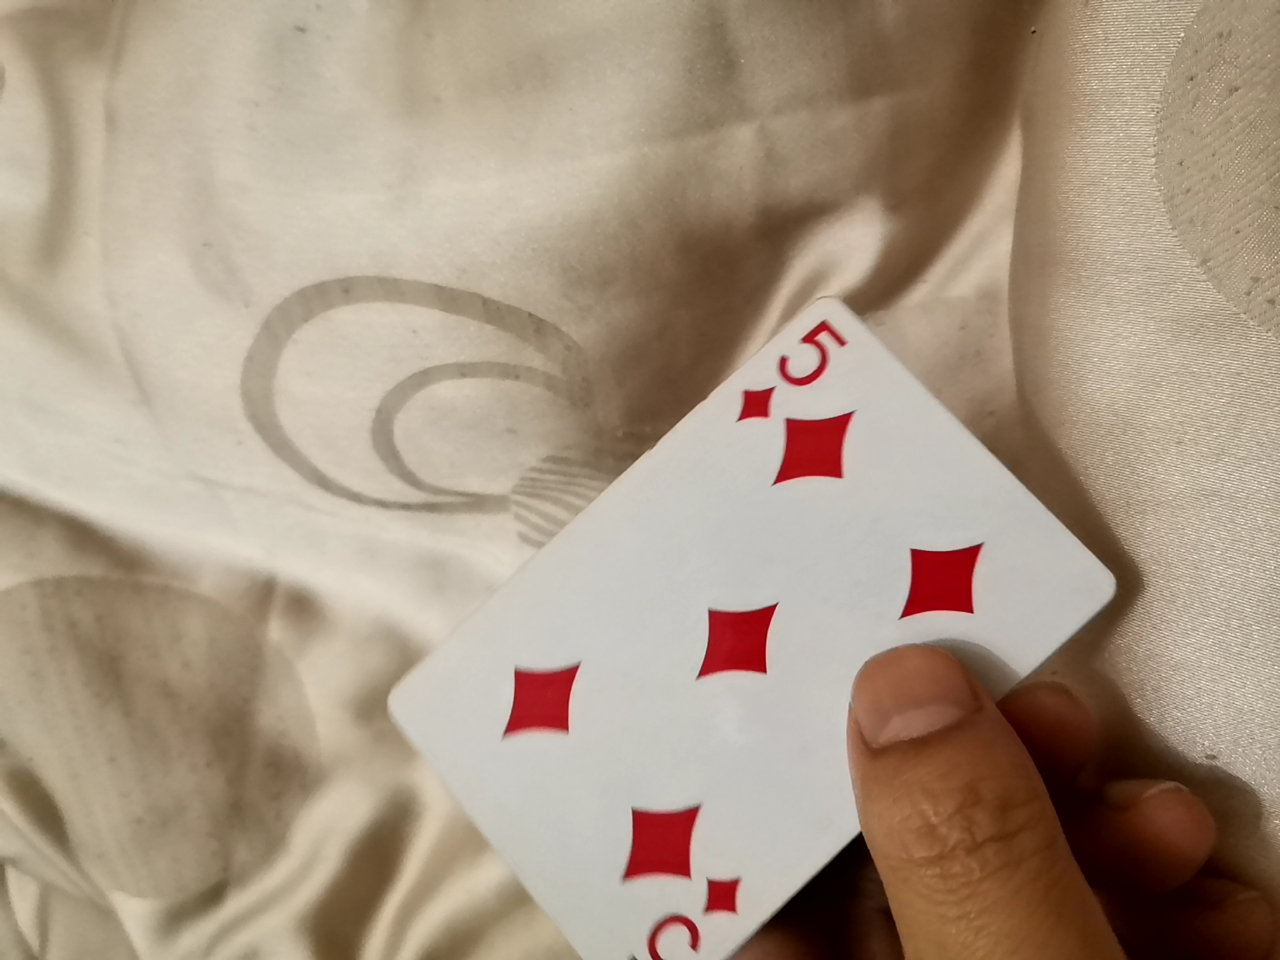fk 5: (363, 273, 1100, 951)
